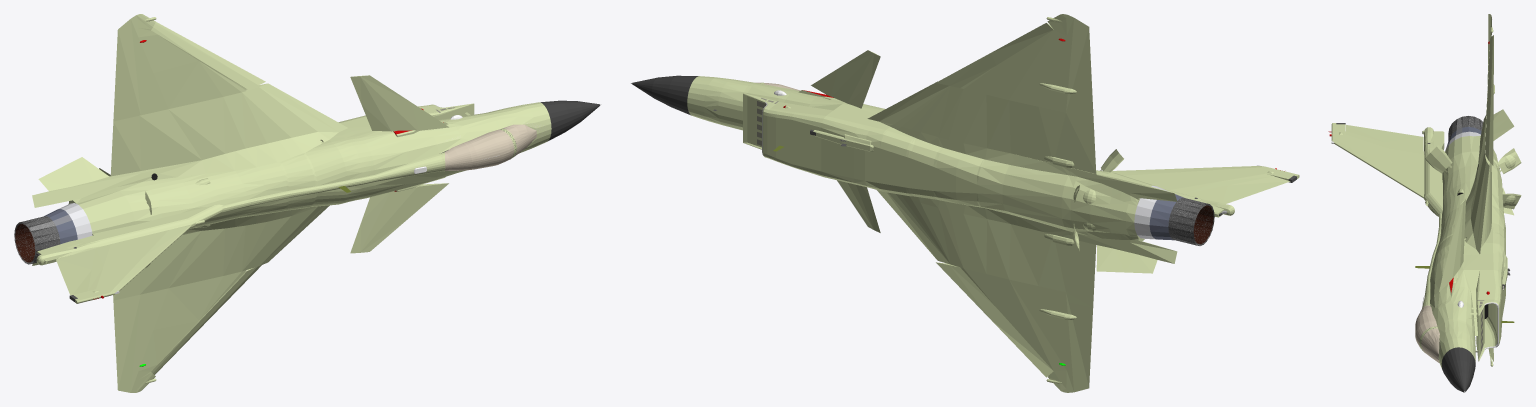
The picture shows the model from 3 angles, left to right: view 1: azimuth 30°, elevation 25°; view 2: azimuth 150°, elevation 25°; view 3: azimuth 270°, elevation 25°; orthographic projection. The views are drawn at different scales.
Parts seen in each view (by area): view 1: j with opened detachable air brake and optional control surfaces; view 2: j with opened detachable air brake and optional control surfaces; view 3: j with opened detachable air brake and optional control surfaces.
Boxes of the visible parts, x1,y1,x2,y2 form: j with opened detachable air brake and optional control surfaces: [14, 14, 601, 392]; j with opened detachable air brake and optional control surfaces: [630, 14, 1299, 392]; j with opened detachable air brake and optional control surfaces: [1328, 14, 1521, 392].
Bounding box in the file's own units: 731 × 443 × 222.
